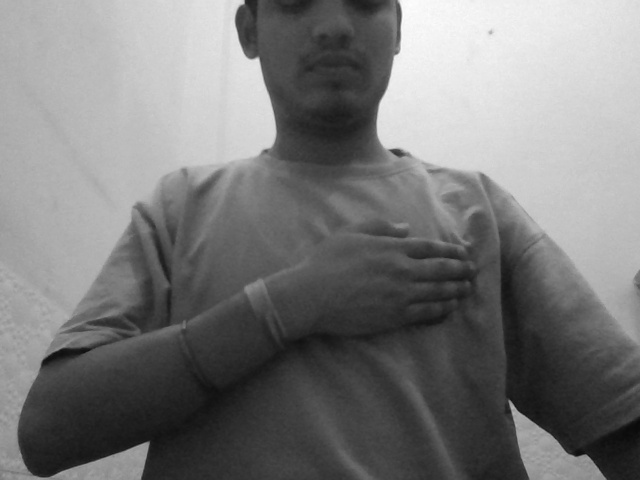Sorry: (286, 193, 491, 372)
